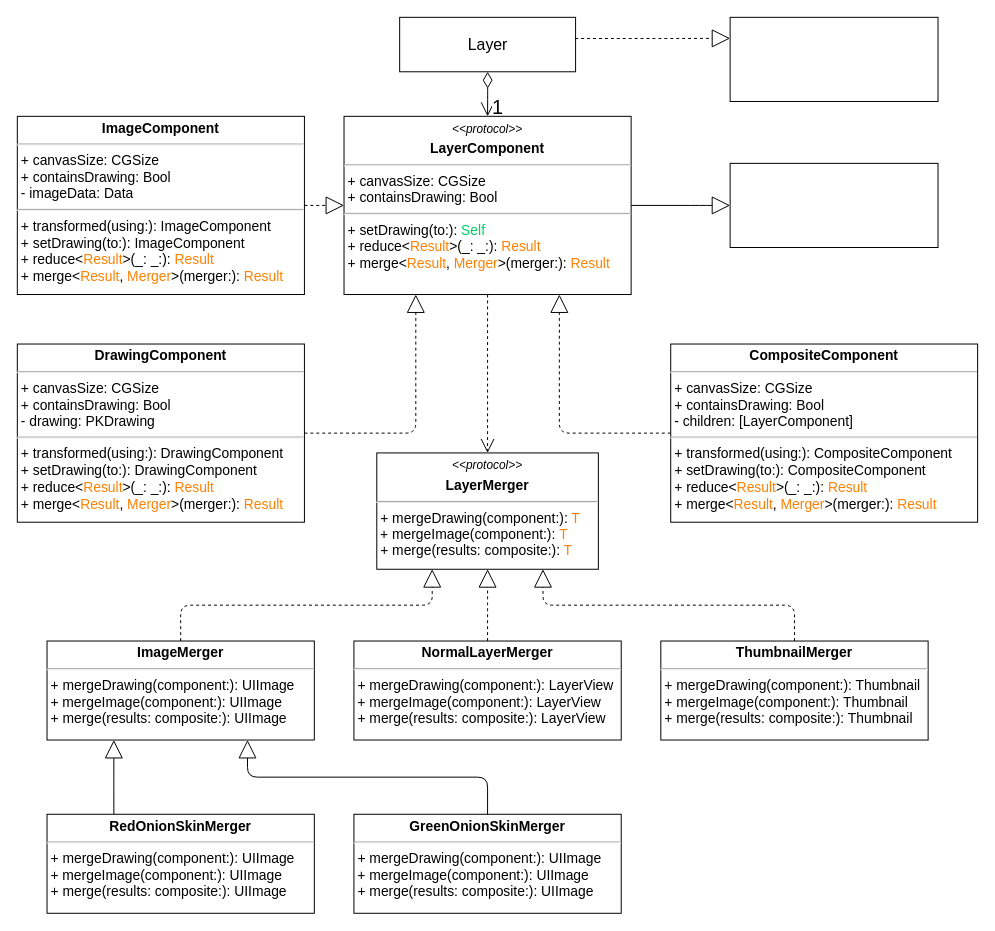
This 995x931 diagram has some shape labels left out. The shapes that lost their labels are listed below. From the top down, each one's box as (x1, y1, x2, y2) in pixels, then its label:
(729, 16, 938, 101): <<protocol>> Thumbnailable + thumbnail: Thumbnail
(729, 162, 938, 248): <<protocol>> Transformable + transformed(using:): Self
